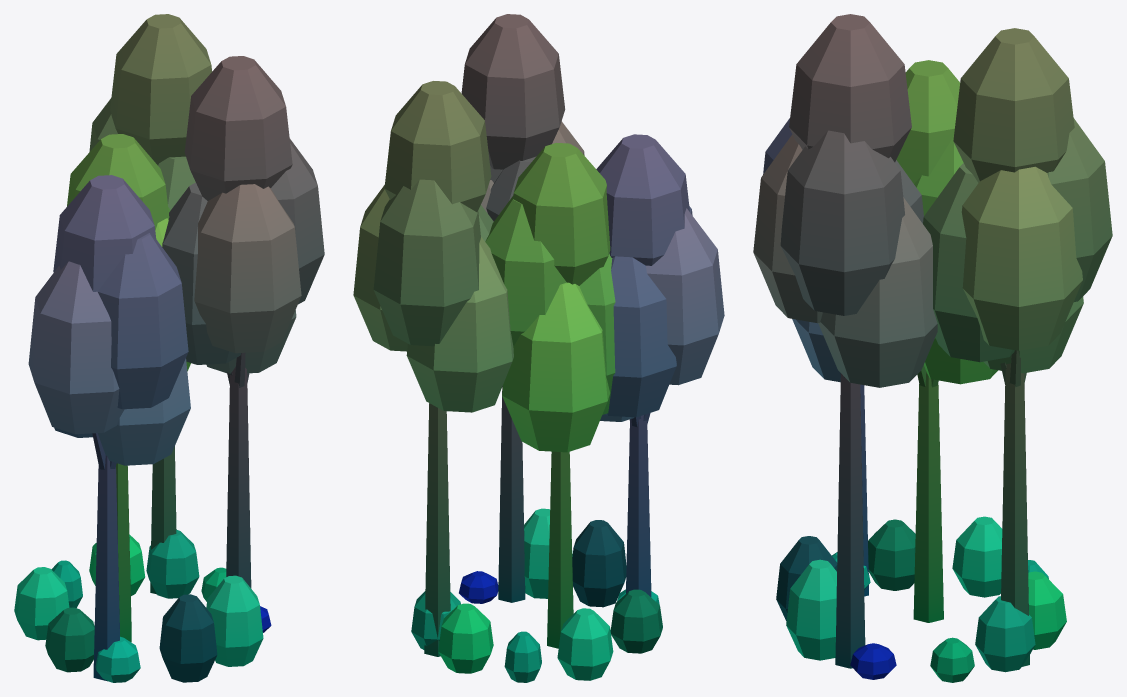
File: broadleaf_01.glb
3 renders of one model, left to right at view 1: azimuth 30°, elevation 25°; view 2: azimuth 150°, elevation 25°; view 3: azimuth 270°, elevation 25°, orthographic. The views are drawn at different scales.
Visible parts, largest first — view 1: broadleaf_01.002; view 2: broadleaf_01.002; view 3: broadleaf_01.002.
Part boxes in pixels (bbox=[...]): broadleaf_01.002: bbox=[14, 14, 324, 682]; broadleaf_01.002: bbox=[353, 14, 724, 682]; broadleaf_01.002: bbox=[753, 14, 1112, 682].
Size of the model in its own units: 0.94 by 1.84 by 0.9354.
